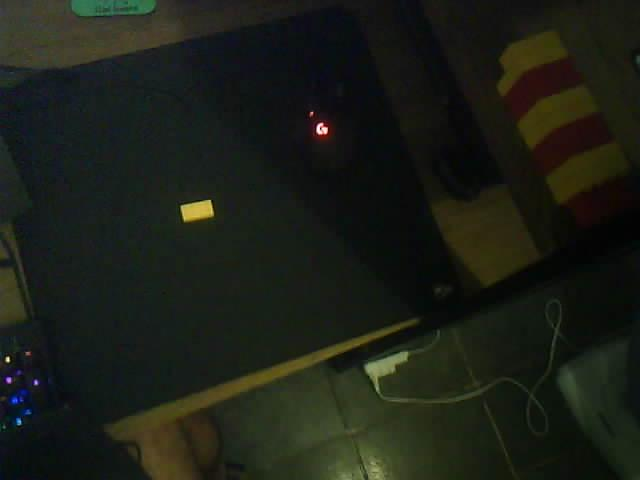lego: (495, 29, 634, 226), (179, 199, 215, 222)
